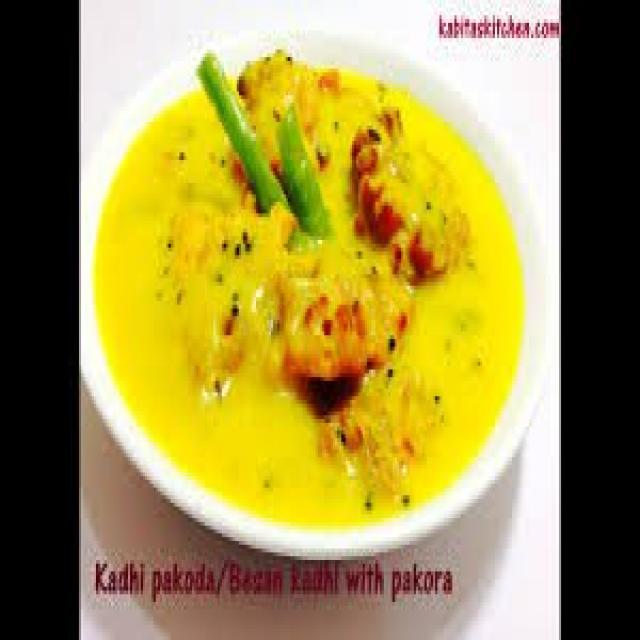Kadhi Pakora: (95, 46, 526, 529)
